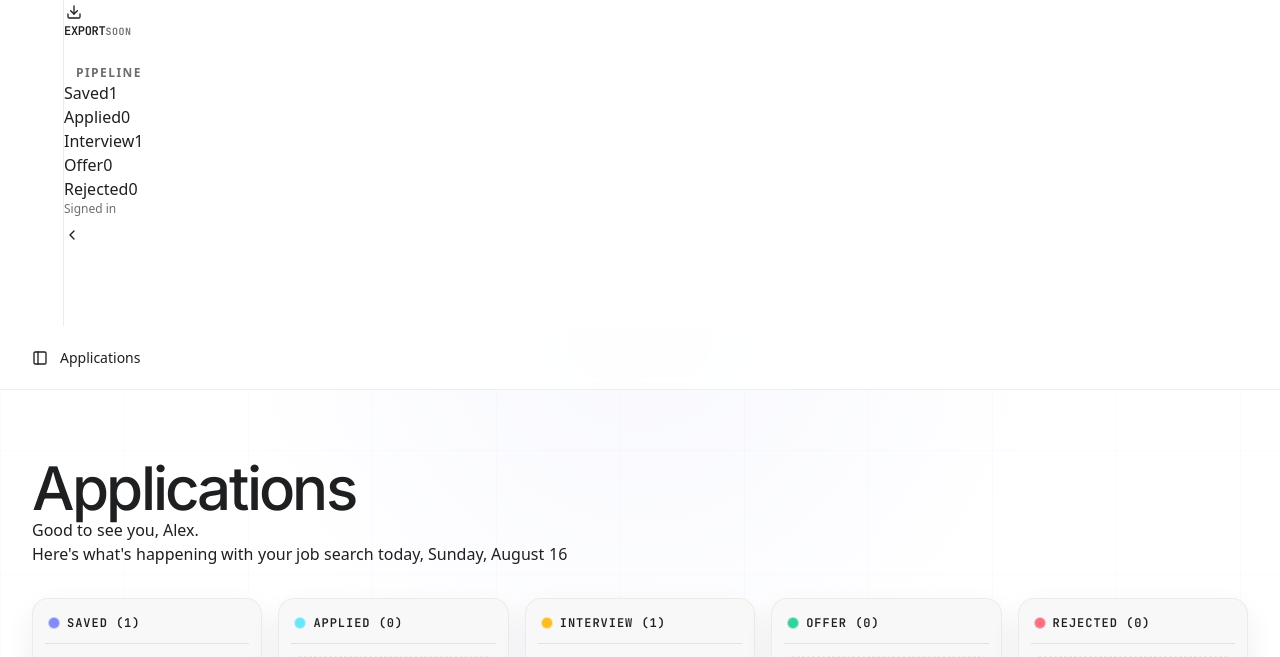
KanbanBoardPage › renders the official sidebar toggle with the Applications workspace header
(page scrolled)
Expected: the heading "Good to see you, Alex." is shown, [32, 519, 199, 541]
Click the button named "Toggle sidebar" at (40, 358), box [32, 350, 48, 366]
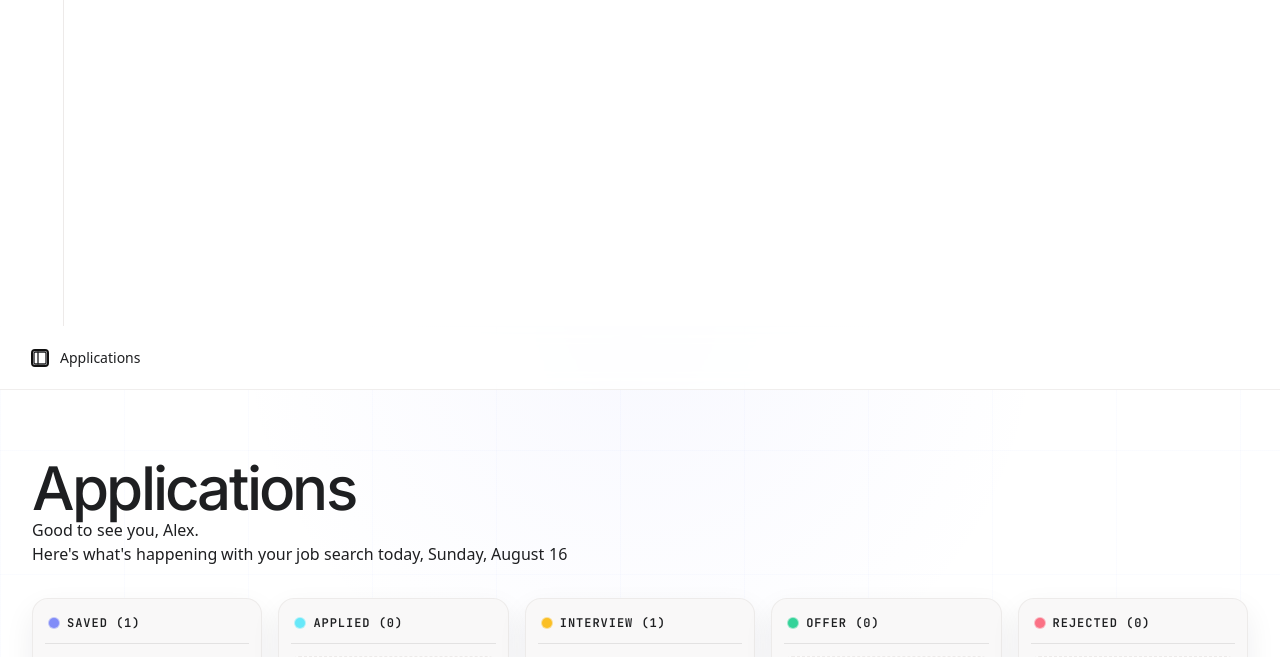
Expected: the button named "Toggle sidebar" is collapsed, [32, 350, 48, 366]
